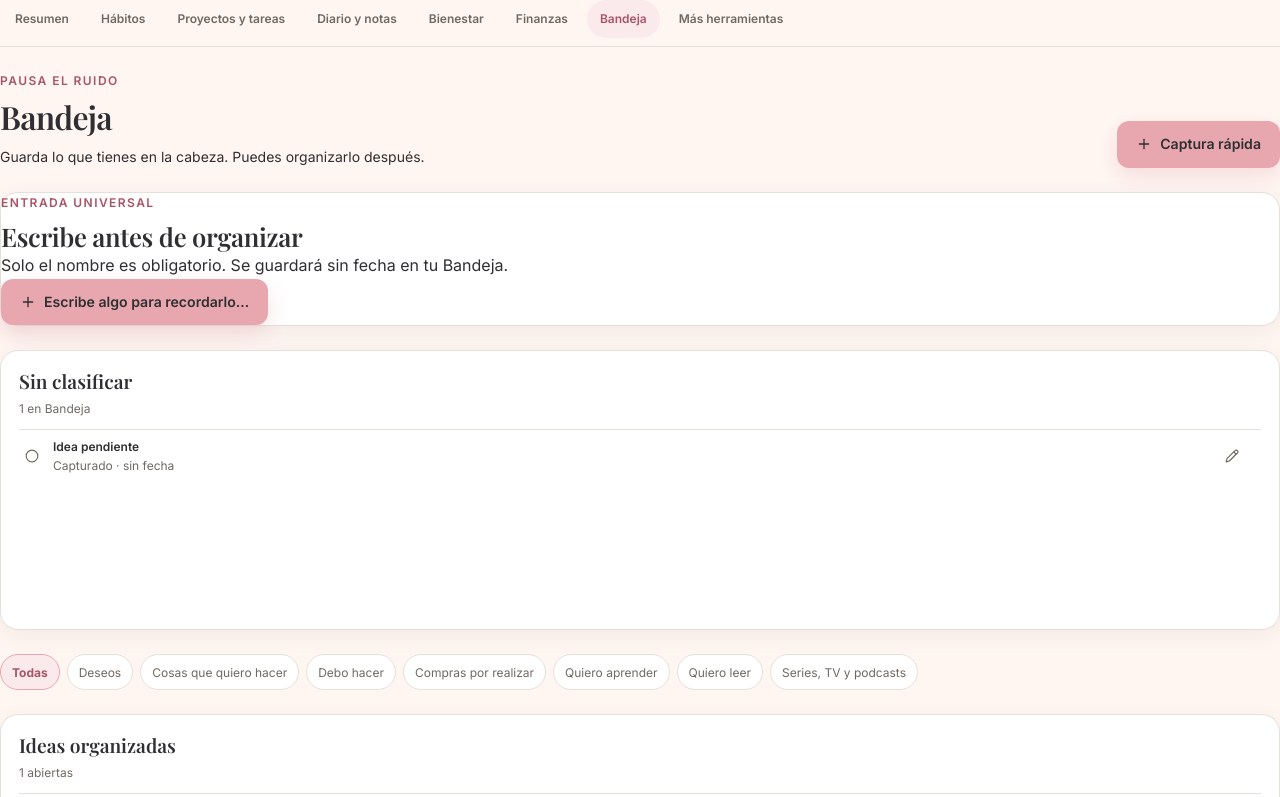
LifeHub saved editors › locks inbox controls until a failed save settles and retains the submitted draft
Click the button named "Organizar Idea pendiente" at (1232, 456), box [1219,443,1245,469]
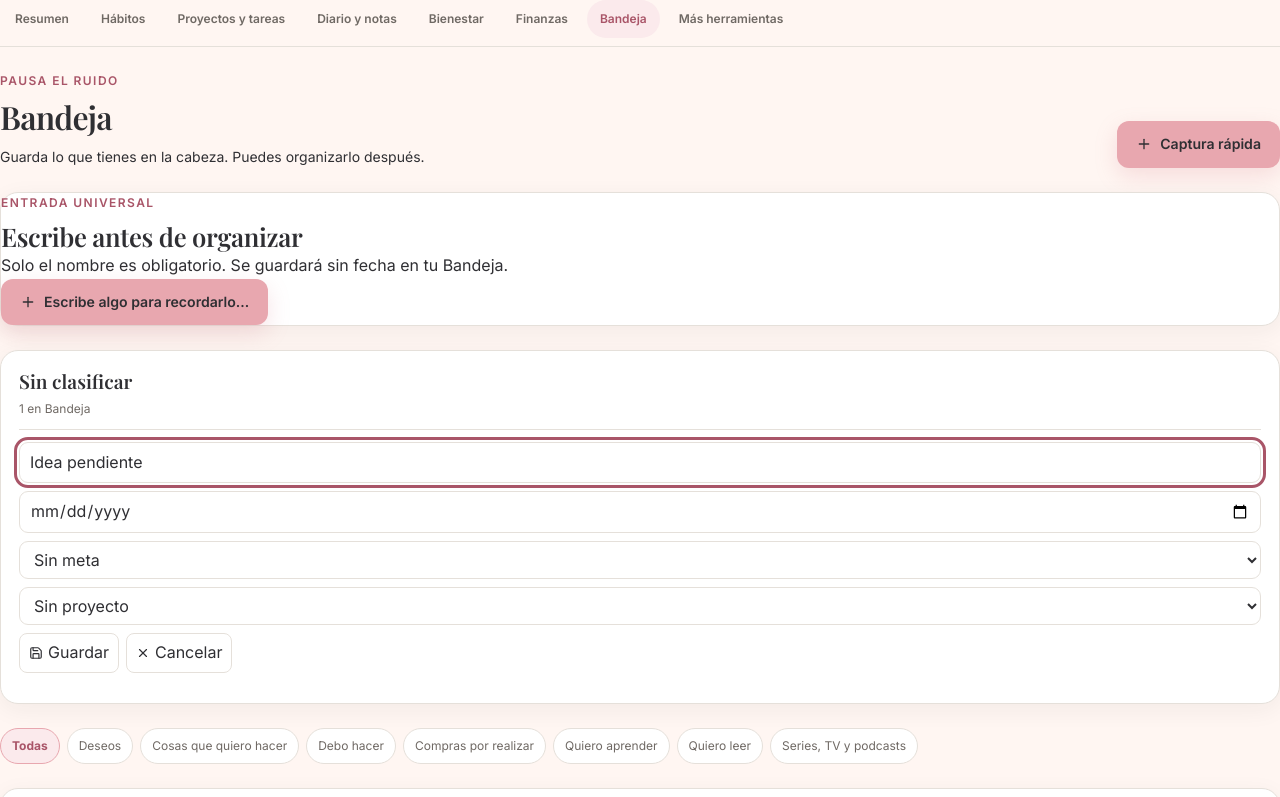
Replace the text in the field named "Editar captura" with "Idea ajustada" at (640, 463), box [19,442,1261,483]
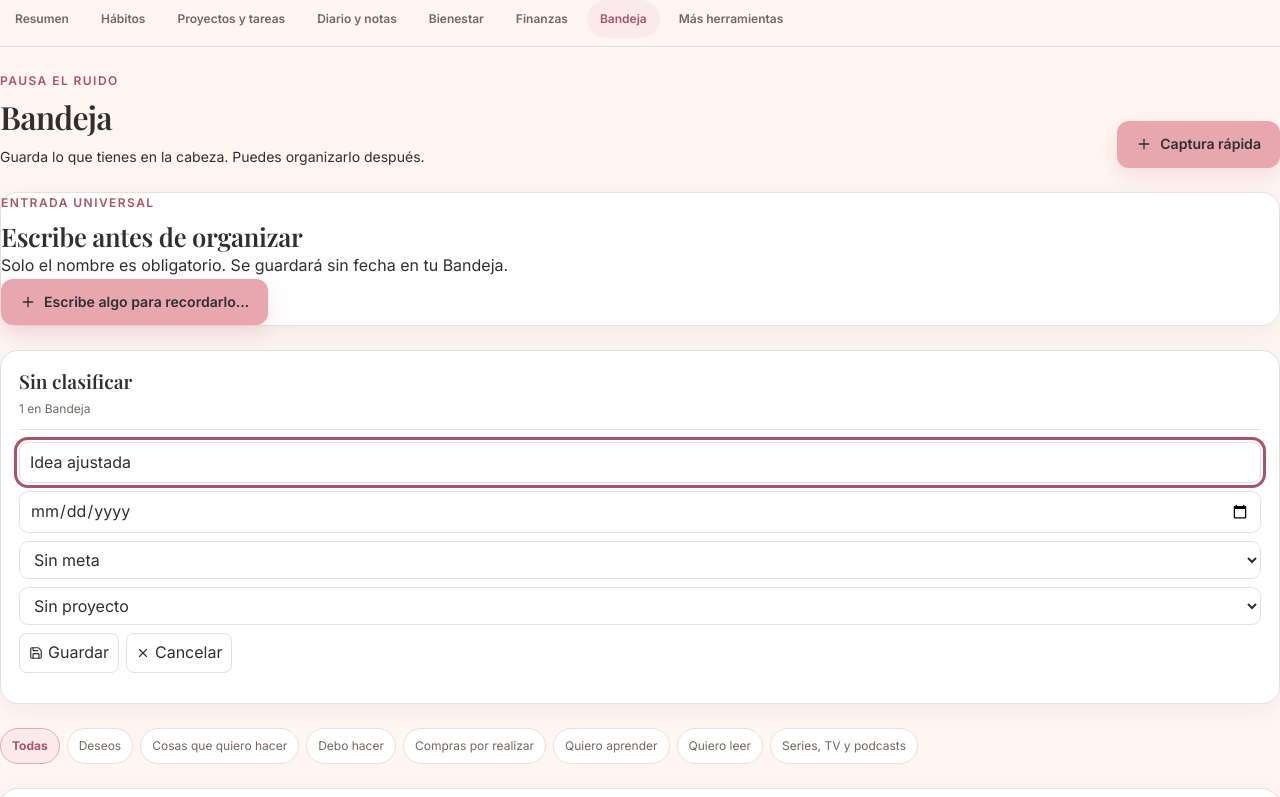
Click the button "Guardar" at (69, 653), box [19,633,119,672]
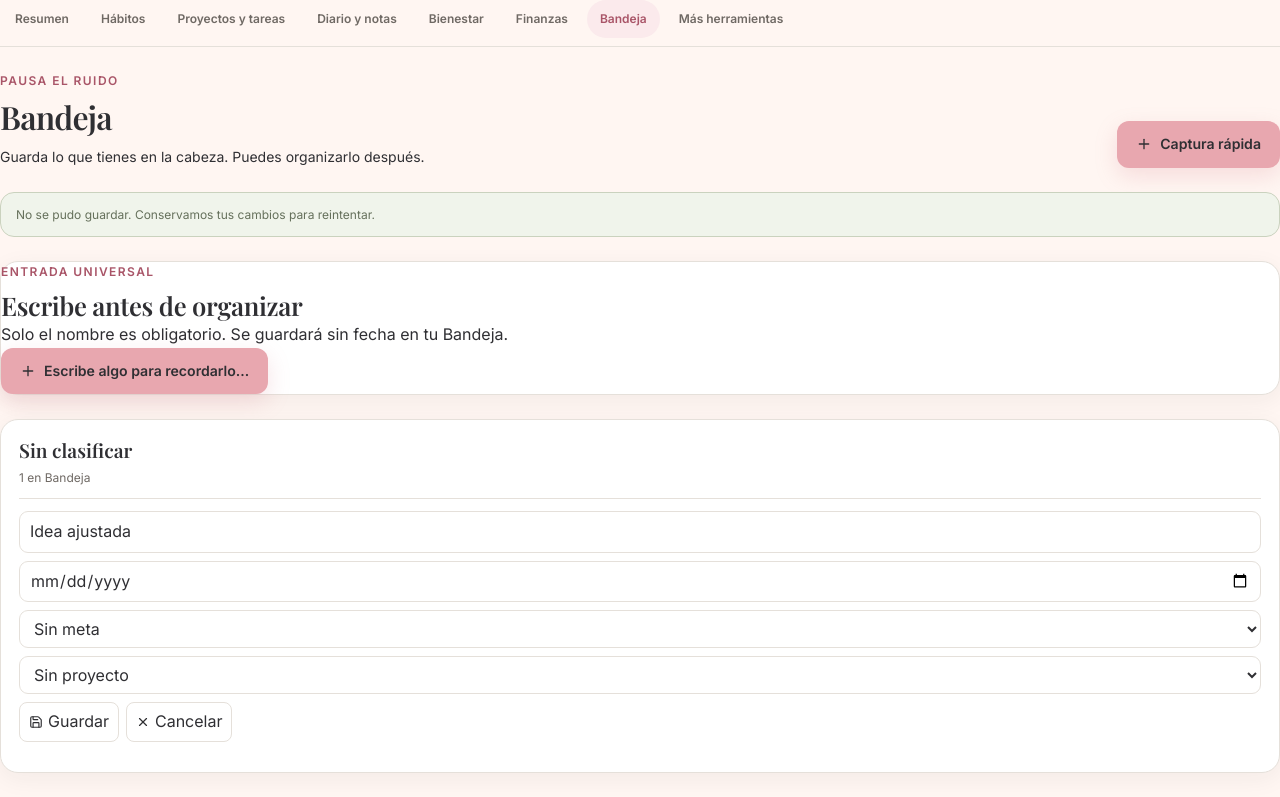
Expected: the message shows "Conservamos", [16,207,375,222]
